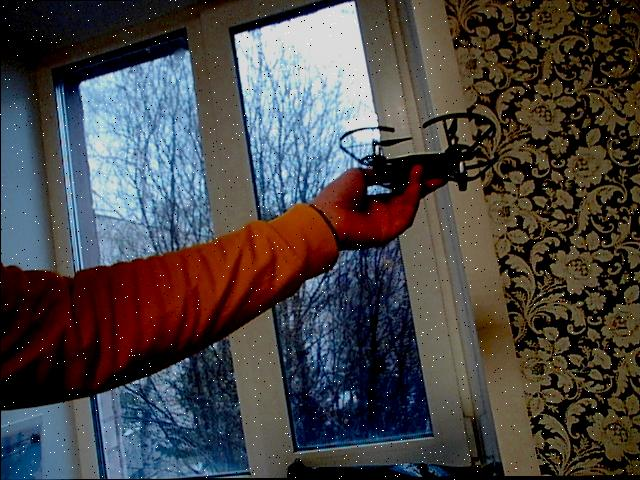drone: (333, 101, 509, 201)
